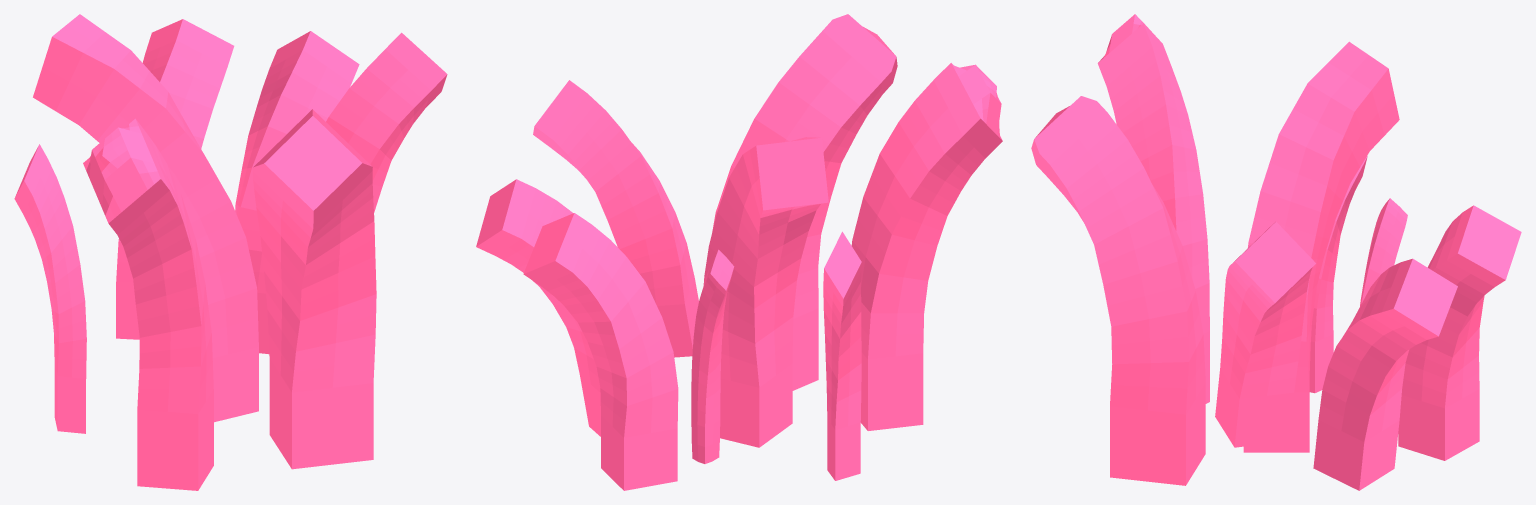
Rendered from PinkCoral.fbx.
3 views of the same model, side by side, from view 1: azimuth 30°, elevation 25°; view 2: azimuth 150°, elevation 25°; view 3: azimuth 270°, elevation 25° (orthographic). The views are drawn at different scales.
Parts seen in each view (by area): view 1: Cube; view 2: Cube; view 3: Cube.
Boxes of the visible parts, x1,y1,x2,y2 form: Cube: (14,14,447,490); Cube: (476,14,1002,490); Cube: (1031,14,1521,490).
Size of the model in its own units: 3.7 by 3.22 by 4.04.
